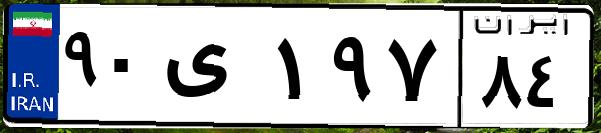0: (110, 28, 158, 98)
1: (270, 28, 330, 110)
4: (525, 38, 570, 115)
7: (385, 28, 445, 110)
8: (475, 38, 525, 113)
9: (330, 28, 385, 110), (57, 26, 110, 100)
ی: (158, 20, 270, 120)
